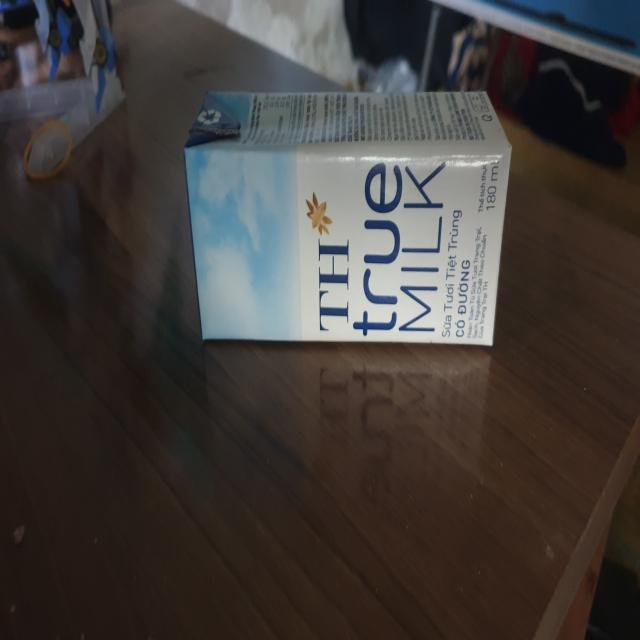TH: (184, 84, 513, 351)
